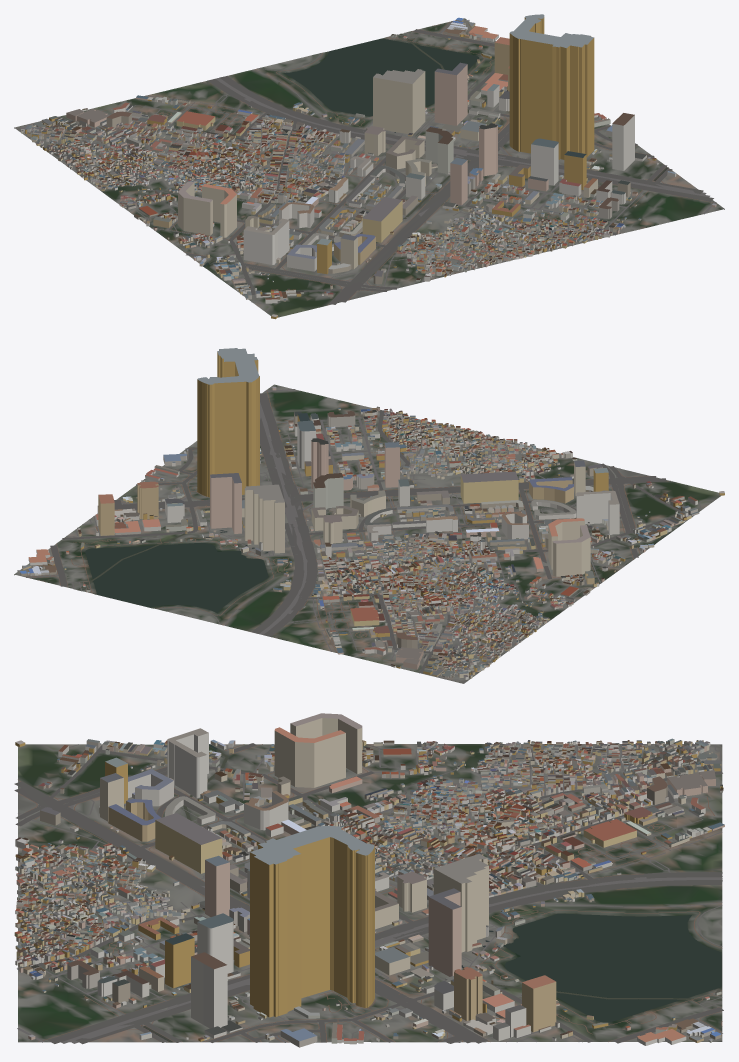
3 renders of one model, top to bottom at view 1: azimuth 30°, elevation 25°; view 2: azimuth 150°, elevation 25°; view 3: azimuth 270°, elevation 25°, orthographic. The views are drawn at different scales.
Visible parts, largest first — view 1: buildings, ground, roads, water; view 2: buildings, ground, roads, water; view 3: buildings, ground, roads, water.
Boxes of the visible parts, box(x1,y1,x2,y2) form: buildings: box(21, 14, 716, 319); ground: box(14, 18, 724, 317); roads: box(14, 20, 716, 311); water: box(203, 33, 668, 266); buildings: box(17, 348, 724, 679); ground: box(14, 384, 721, 683); roads: box(23, 389, 714, 683); water: box(77, 496, 639, 612); buildings: box(14, 713, 724, 1047); ground: box(18, 744, 722, 1042); roads: box(14, 743, 723, 1044); water: box(142, 744, 722, 1042).
Bounding box in the file's own units: 1429 × 339 × 1415.
